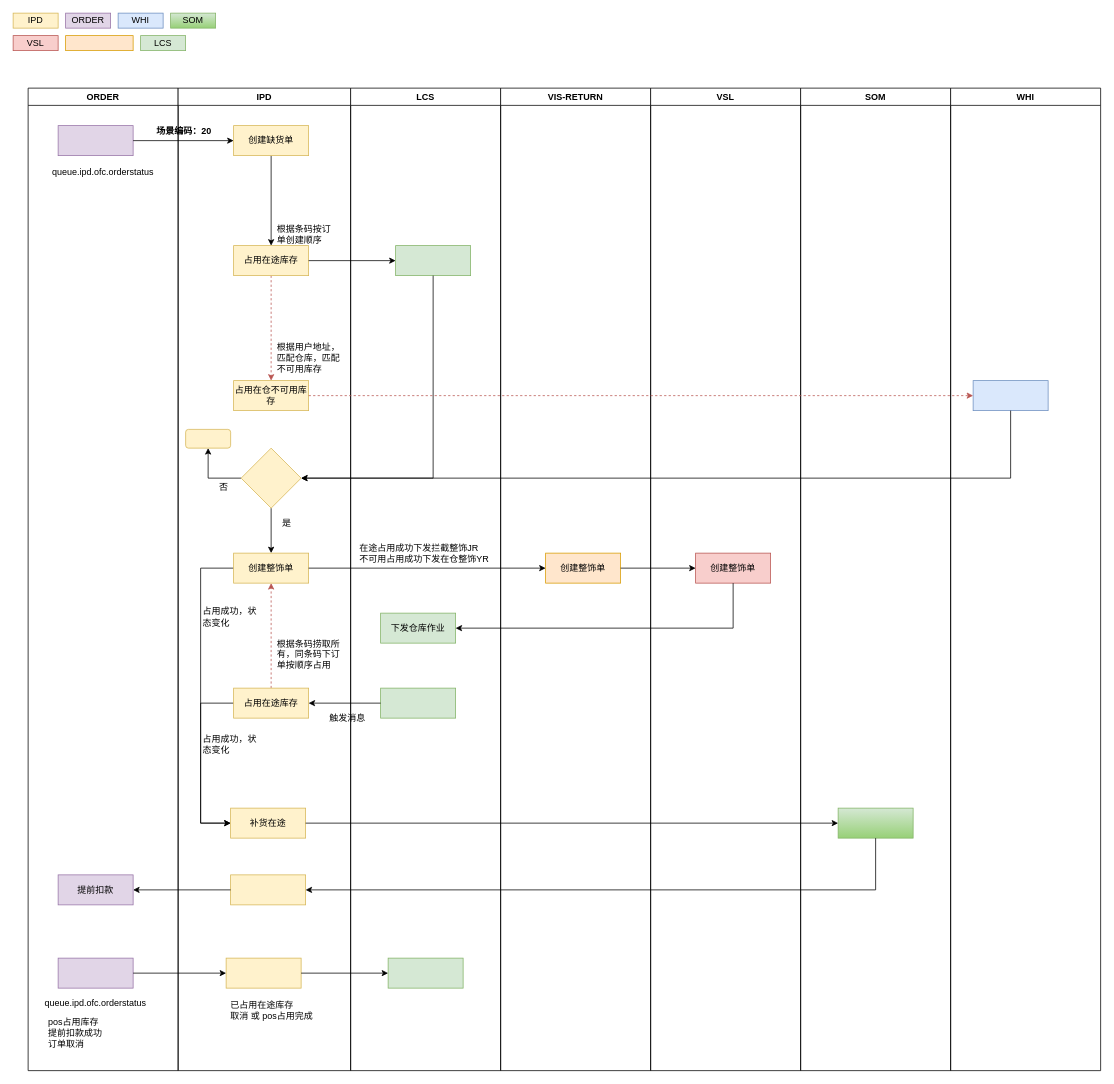
Some shapes in this 1114 by 1084 pixel diagram are drawn without their labels. Here are the shapes that lost their labels. From the top down, the centre of each, then its label:
point 99,43: VIS-RETUNE
point 95,140: 订单消息
point 433,260: 在途库存服务
point 1010,395: 在仓不可用库存服务
point 208,438: 结束
point 270,477: 占用成功或有可用库存
point 418,702: 在途库存增加/减少
point 875,822: 判断提前扣款
point 268,889: 推送扣款
point 95,972: 订单状态消息
point 263,972: 状态处理
point 425,972: 释放在途库存
